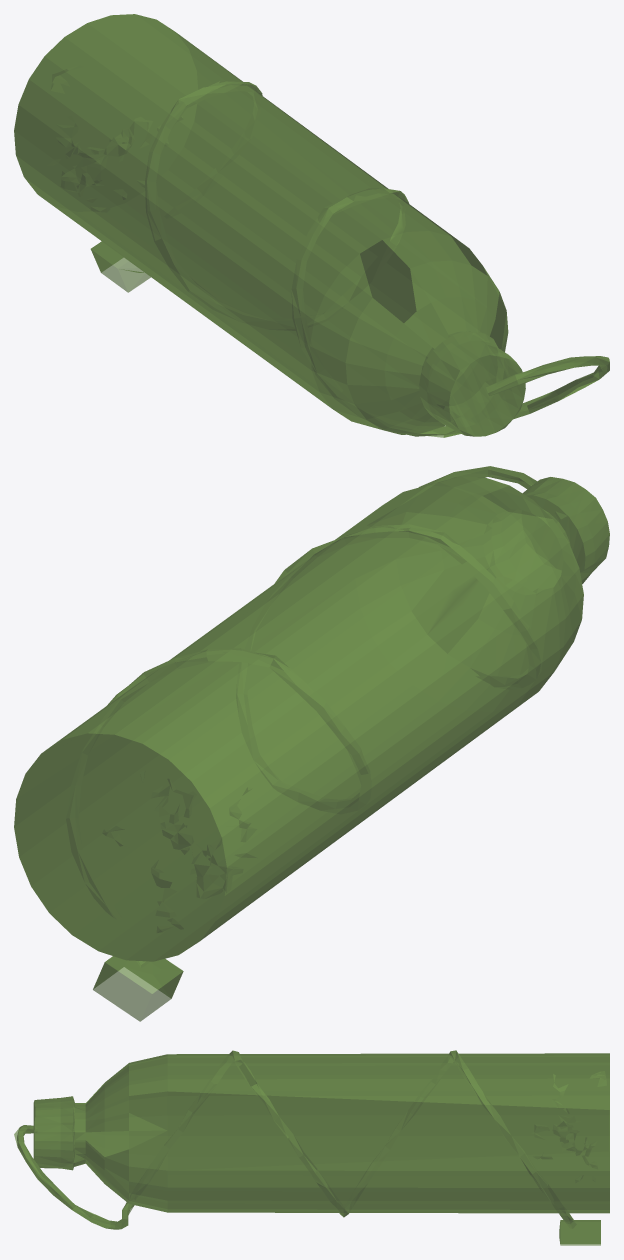
Rendered from model_align.obj.
3 renders of one model, top to bottom at view 1: azimuth 30°, elevation 25°; view 2: azimuth 150°, elevation 25°; view 3: azimuth 270°, elevation 25°, orthographic. The views are drawn at different scales.
Bounding box in the file's own units: 0.0506 × 0.0527 × 0.1502.
